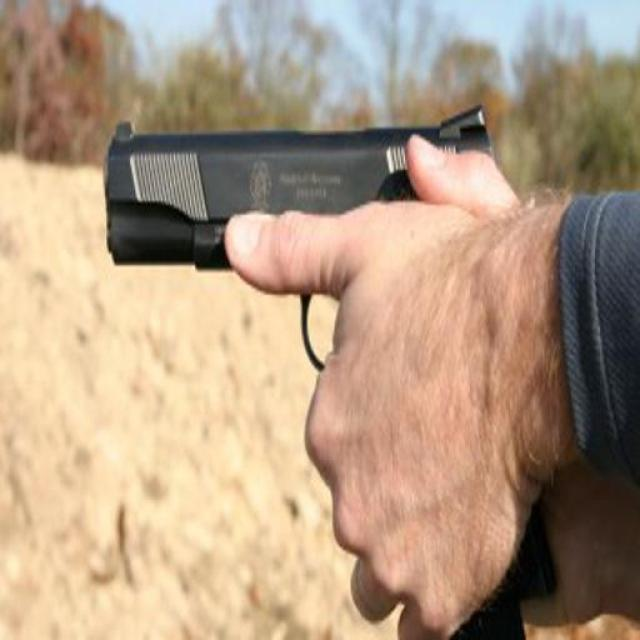pistol: (102, 99, 555, 640)
